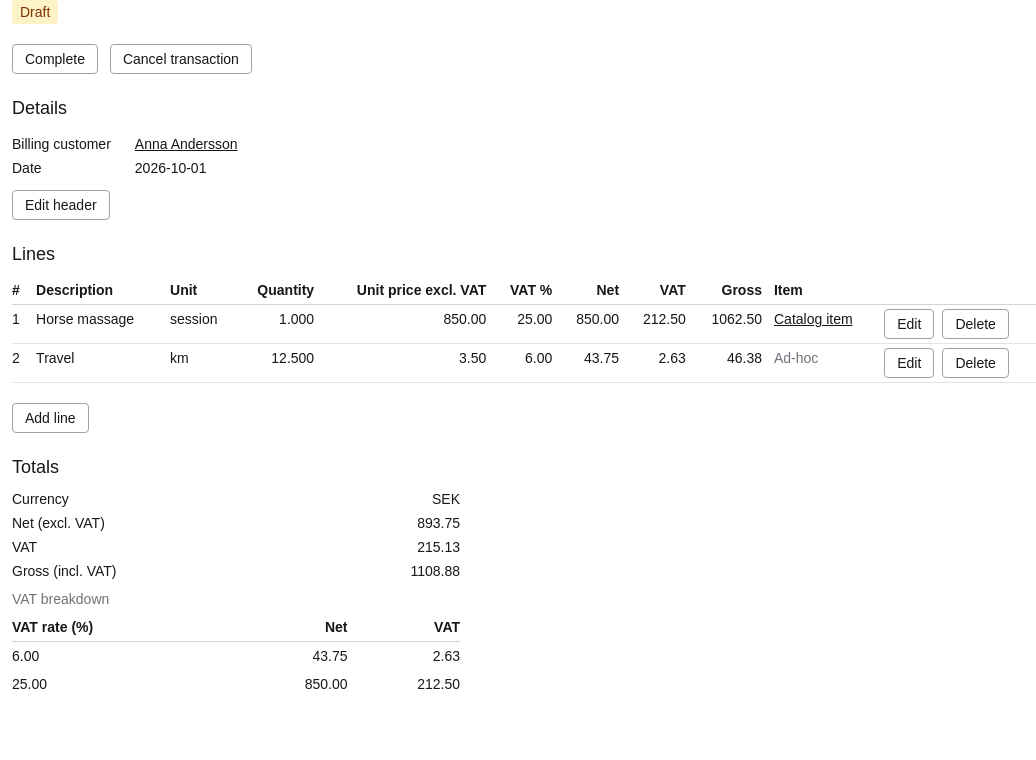
Test case: adding a line from the catalog › without an item nothing is sent: 'Choose an item.' on the picker
This screenshot has width=1036, height=760.
Click the button with test id "add-line": (50, 418) x1=12 y1=403 x2=89 y2=433
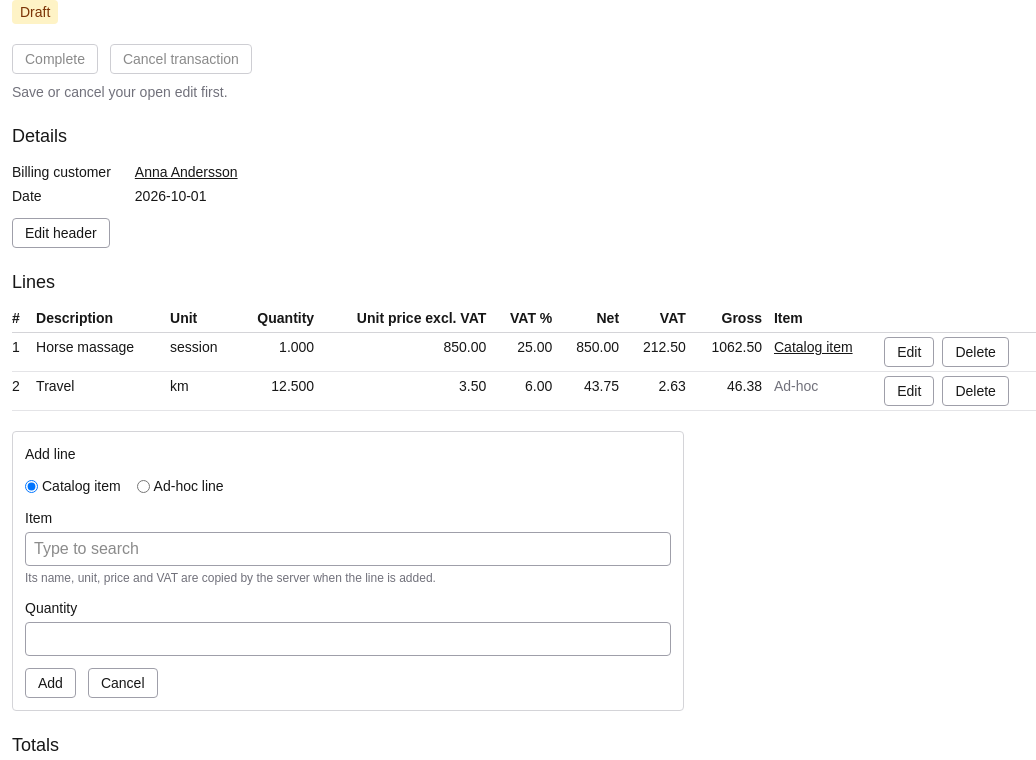
In the field labelled "Quantity": (348, 639) x1=25 y1=622 x2=671 y2=656, type "1"
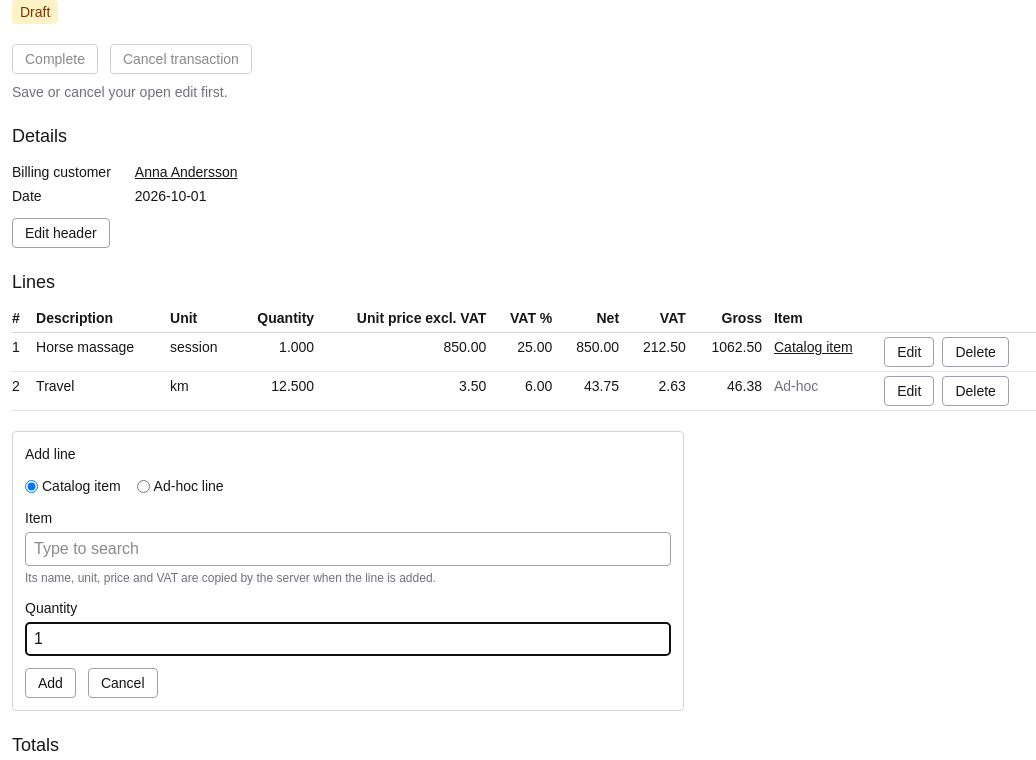
Click the button with test id "submit-line": (50, 683) x1=25 y1=668 x2=76 y2=698
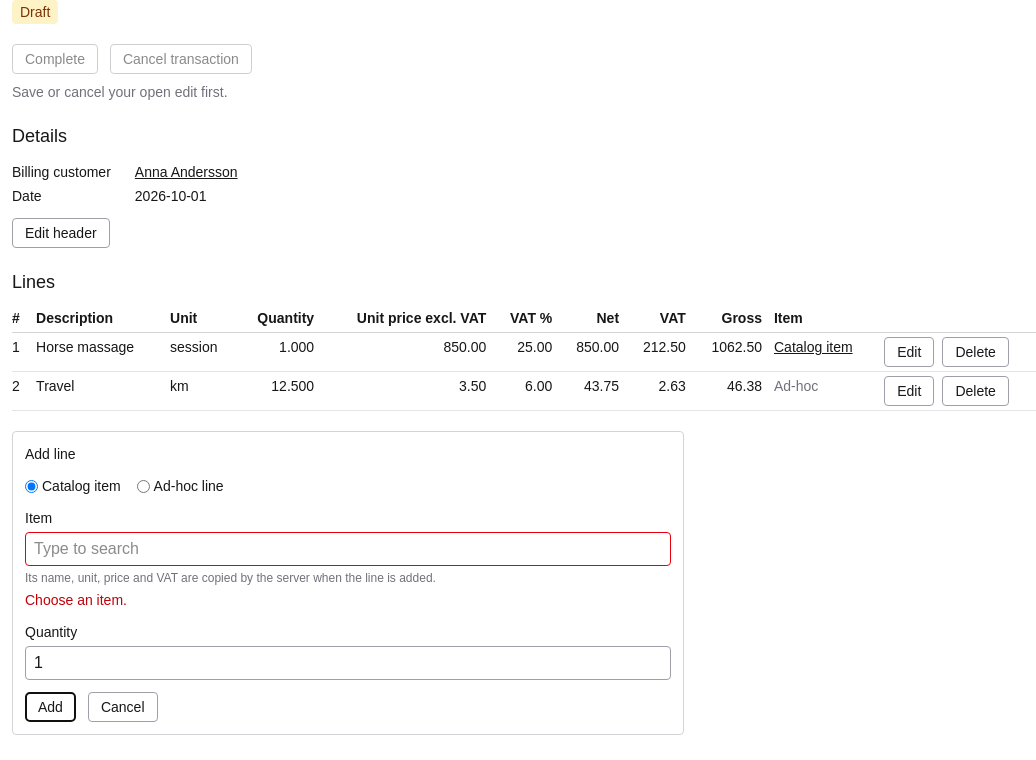
Check: the text with test id "error-item_id" reads "Choose an item.", box x1=25 y1=592 x2=127 y2=608
